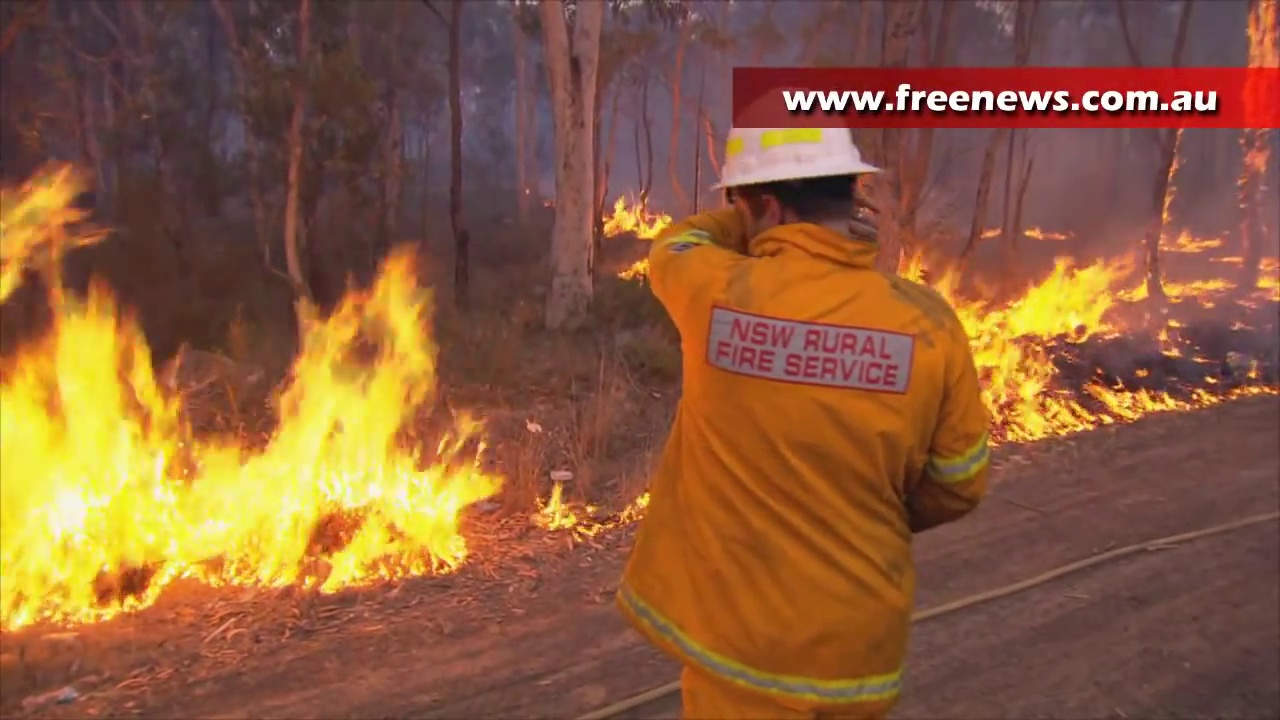fire: (1, 168, 483, 620), (971, 253, 1125, 437), (609, 196, 663, 234), (895, 248, 937, 287), (1164, 231, 1212, 255), (544, 485, 567, 527), (1159, 278, 1232, 290)
